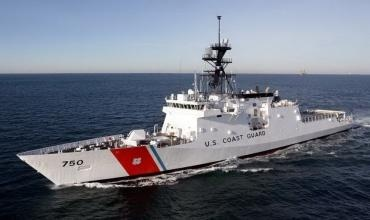warship: (14, 37, 362, 191)
